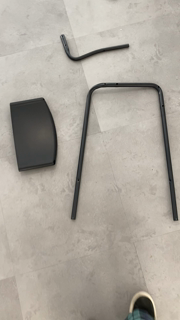Back: (9, 96, 62, 174)
L pipe: (60, 31, 133, 65)
U pipe: (70, 82, 180, 224)
